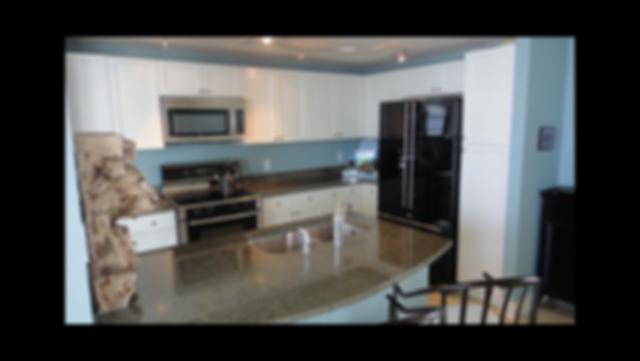Lavaplatos: (243, 198, 371, 256)
